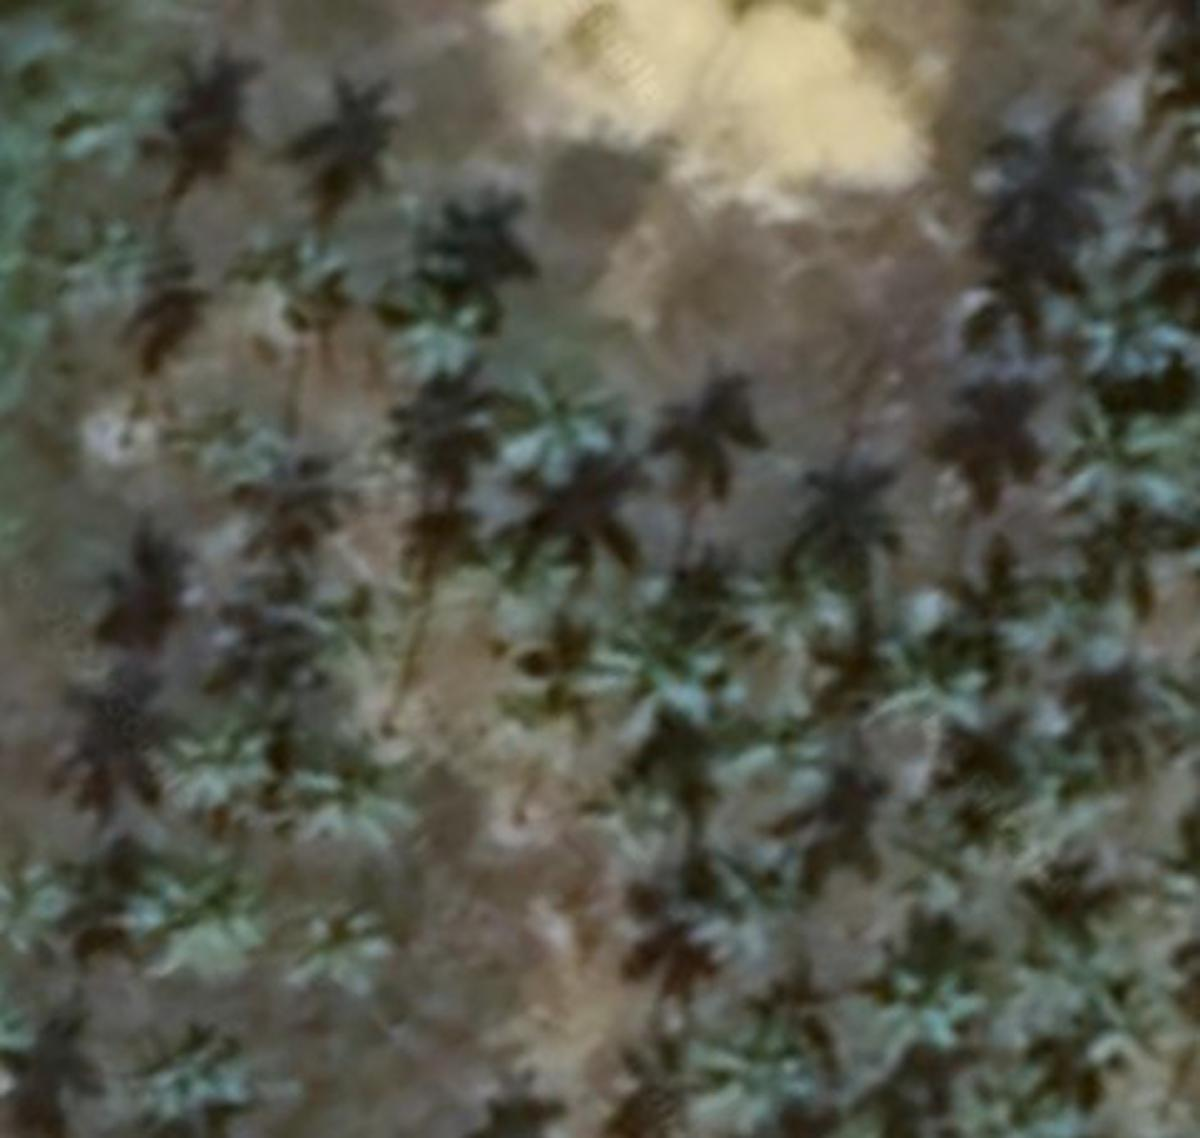coconut: (121, 839, 273, 988), (290, 728, 429, 882), (72, 222, 207, 367), (864, 613, 1007, 747), (1043, 393, 1200, 509), (578, 606, 718, 737), (705, 683, 849, 810), (688, 991, 824, 1125), (857, 936, 988, 1068), (1065, 964, 1200, 1093), (218, 241, 350, 370), (678, 837, 800, 971), (1058, 253, 1185, 380), (299, 586, 424, 713), (491, 365, 613, 494), (365, 263, 499, 376), (39, 81, 181, 188), (583, 760, 710, 864), (149, 1028, 284, 1123), (727, 554, 857, 653), (163, 718, 260, 847), (2, 862, 96, 996), (168, 412, 290, 504), (293, 899, 402, 998)
